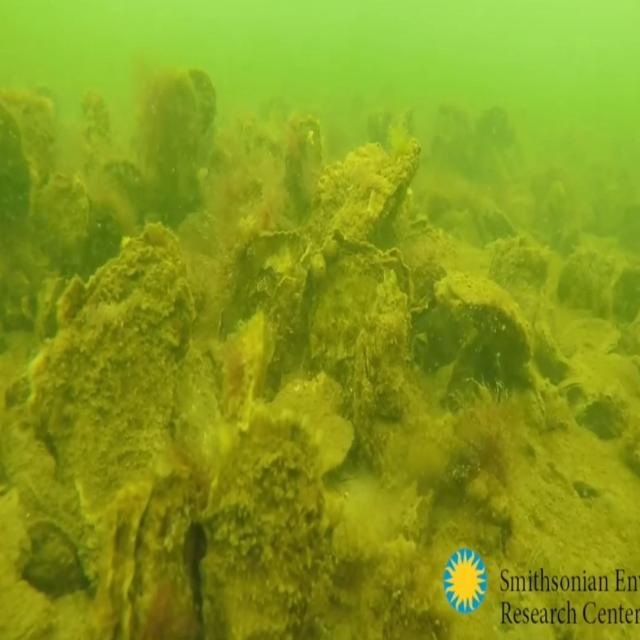Oyster-Closed: (26, 221, 199, 640), (295, 136, 423, 318), (436, 269, 533, 359)
Oyster-Indeterminate: (198, 411, 326, 640), (298, 230, 412, 422), (351, 278, 419, 489), (219, 228, 303, 393), (130, 469, 205, 640), (154, 68, 216, 223), (34, 170, 90, 296), (93, 160, 152, 276), (286, 118, 323, 224)
